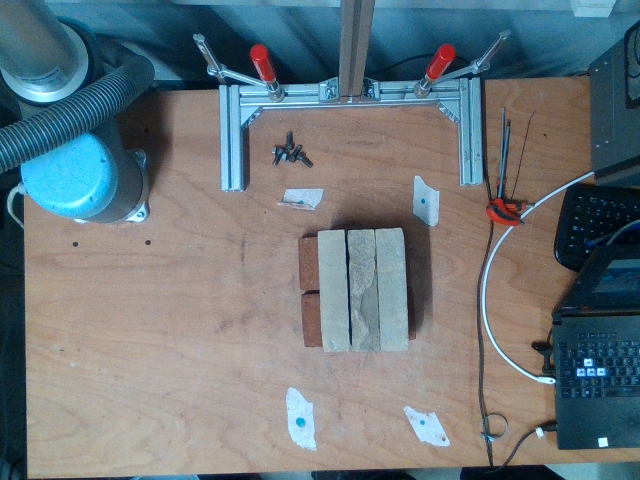brick-side: (346, 230, 382, 353), (316, 230, 352, 353), (374, 229, 409, 352)
